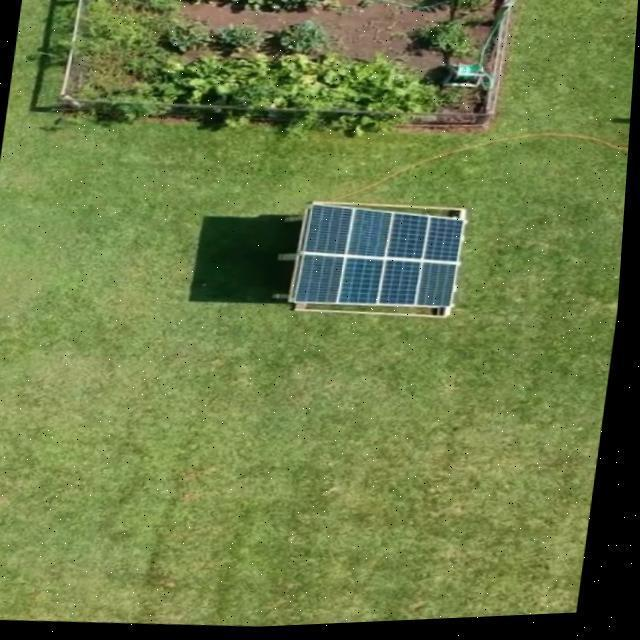Normal Solar Panel: (297, 198, 472, 317)
